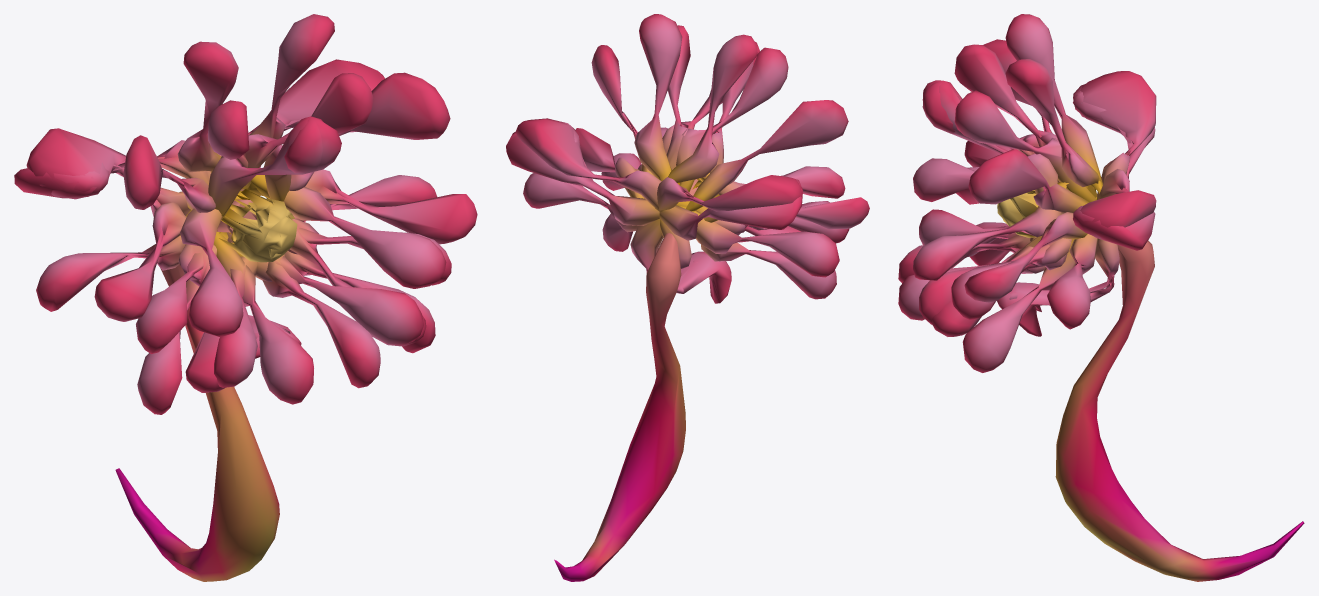
The model's file is mesh_lod_1_4f6a5346-9dbe-52c9-aa7c-2db4c4a6b72e.glb.
3 views of the same model, side by side, from view 1: azimuth 30°, elevation 25°; view 2: azimuth 150°, elevation 25°; view 3: azimuth 270°, elevation 25° (orthographic). The views are drawn at different scales.
Visible parts, largest first — view 1: LOD 1_4f6a5346-9dbe-52c9-aa7c-2db4c4a6b72e; view 2: LOD 1_4f6a5346-9dbe-52c9-aa7c-2db4c4a6b72e; view 3: LOD 1_4f6a5346-9dbe-52c9-aa7c-2db4c4a6b72e.
Boxes of the visible parts, x1,y1,x2,y2 form: LOD 1_4f6a5346-9dbe-52c9-aa7c-2db4c4a6b72e: [14, 14, 477, 581]; LOD 1_4f6a5346-9dbe-52c9-aa7c-2db4c4a6b72e: [506, 14, 869, 581]; LOD 1_4f6a5346-9dbe-52c9-aa7c-2db4c4a6b72e: [898, 14, 1304, 581].
Bounding box in the file's own units: 1.48 × 2.24 × 1.56.
